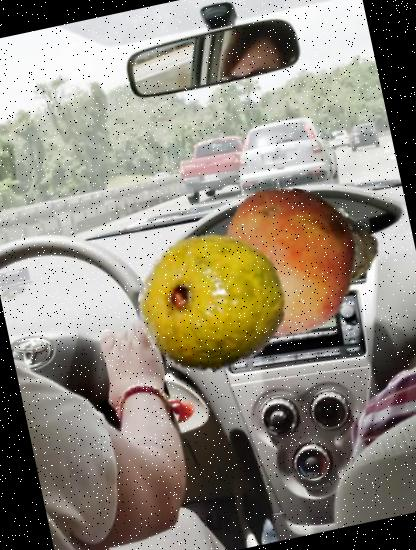Ginger: (222, 172, 393, 344), (228, 186, 388, 346)
Guava: (124, 216, 300, 392)
Peach: (200, 174, 378, 352)
